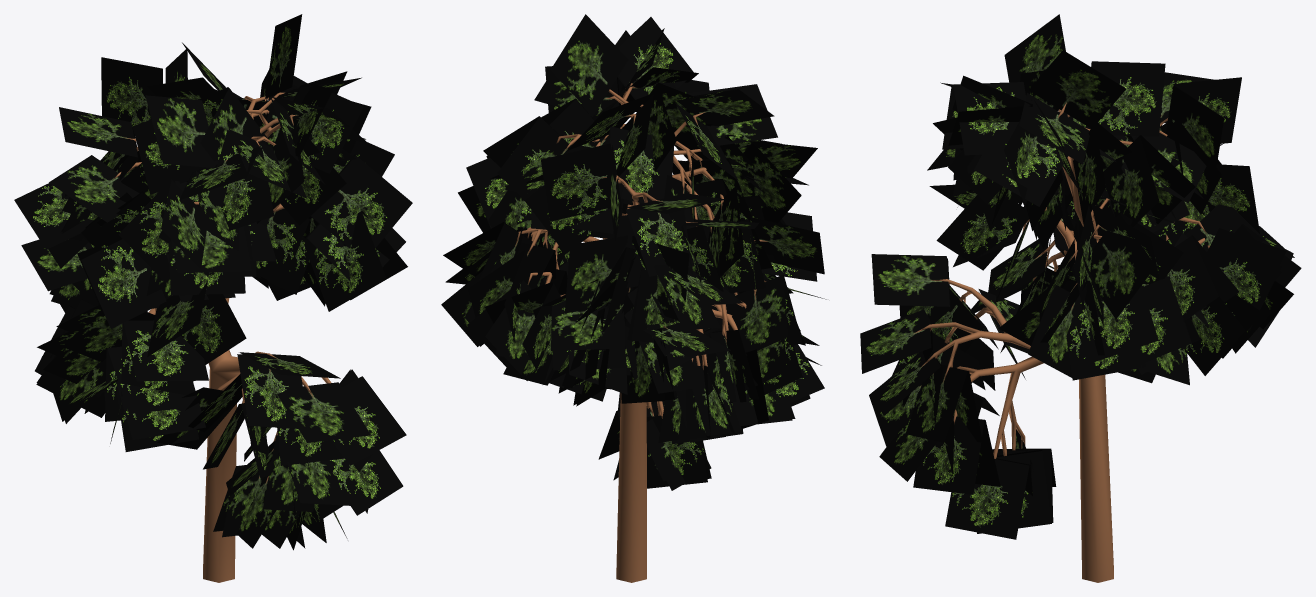
The model's file is tree.gltf.
3 renders of one model, left to right at view 1: azimuth 30°, elevation 25°; view 2: azimuth 150°, elevation 25°; view 3: azimuth 270°, elevation 25°, orthographic. The views are drawn at different scales.
Size of the model in its own units: 4.12 by 6.35 by 4.56.
Materials: 2 (1 with a texture image).
